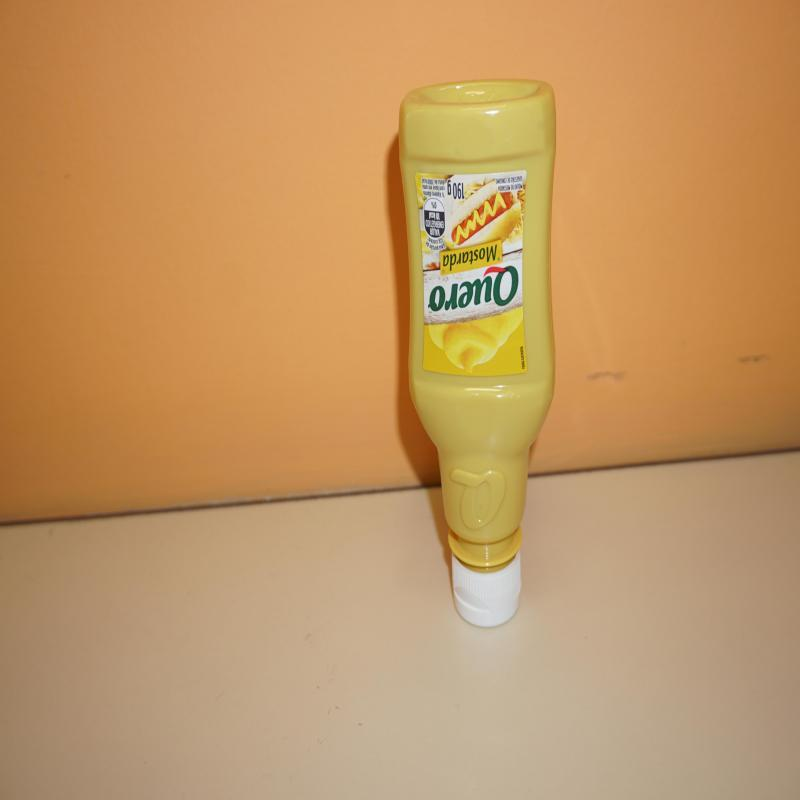Mustard: (398, 80, 556, 632)
